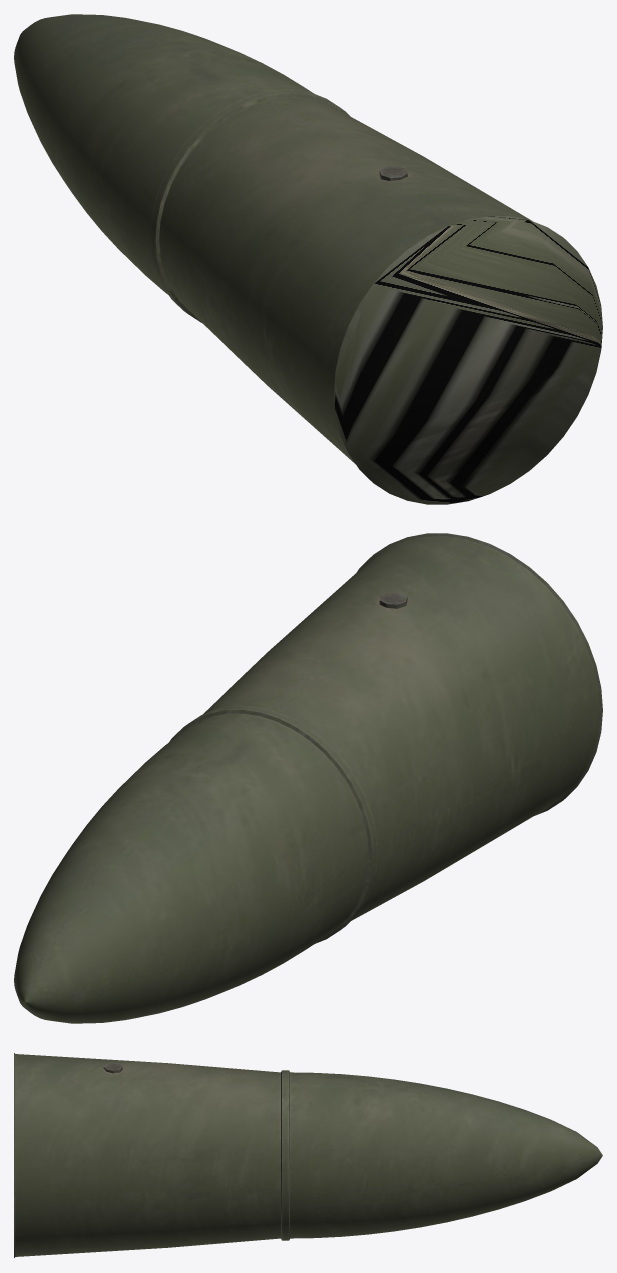
File: tbmdec_own.glb
The picture shows the model from 3 angles, top to bottom: view 1: azimuth 30°, elevation 25°; view 2: azimuth 150°, elevation 25°; view 3: azimuth 270°, elevation 25°; orthographic projection. The views are drawn at different scales.
Visible parts, largest first — view 1: tbmdec; view 2: tbmdec; view 3: tbmdec.
Boxes of the visible parts, x1,y1,x2,y2 form: tbmdec: (14, 14, 602, 504); tbmdec: (14, 533, 602, 1023); tbmdec: (14, 1053, 602, 1257).
Size of the model in its own units: 0.7588 by 0.7588 by 2.16.
Materials: 1 (1 with a texture image).
